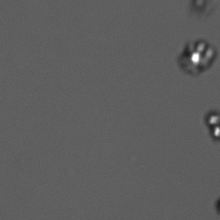Living Cell: (181, 43, 212, 71)
